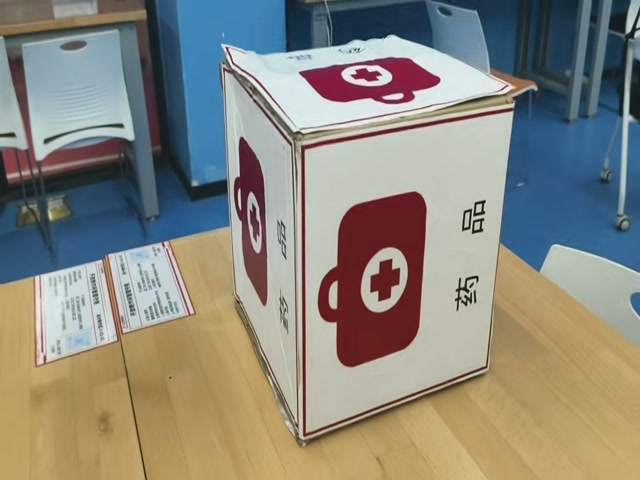Cube_medicine: (228, 39, 517, 143)
